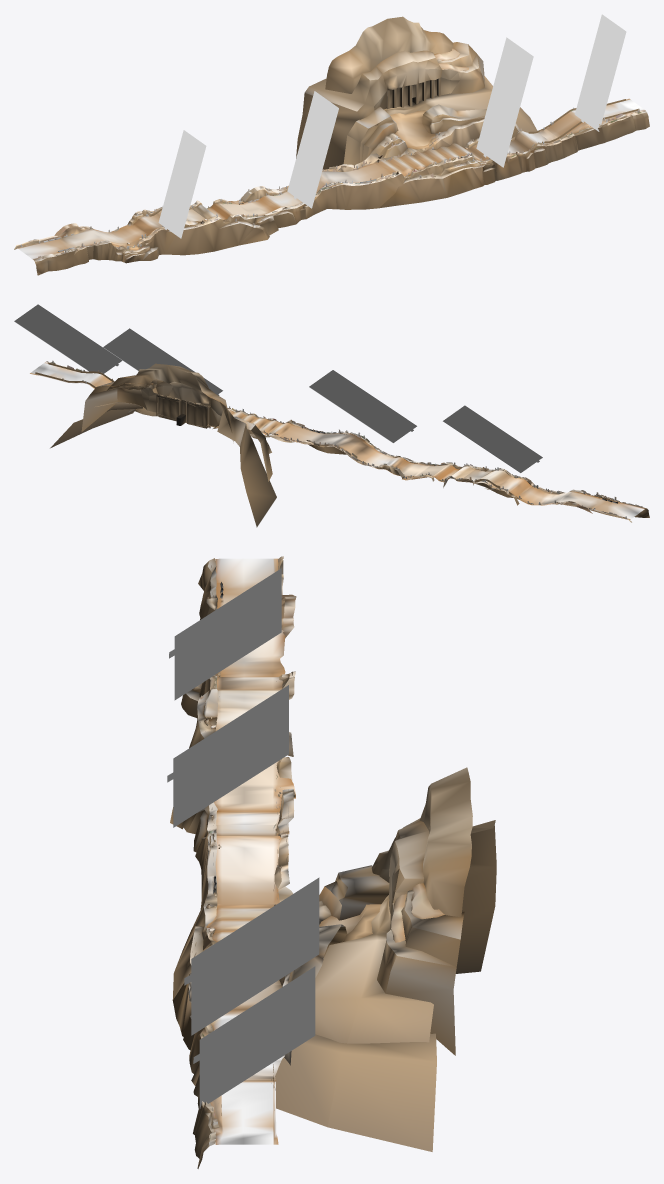
File: Desert_03.fbx
The picture shows the model from 3 angles, top to bottom: view 1: azimuth 30°, elevation 25°; view 2: azimuth 150°, elevation 25°; view 3: azimuth 270°, elevation 25°; orthographic projection. The views are drawn at different scales.
Parts seen in each view (by area): view 1: Mountain_01, Light_01, Road_01, Tree_01, Ground_02, Pattern_01; view 2: Mountain_01, Light_01, Road_01, Pattern_01, Tree_01, Leak_01; view 3: Mountain_01, Light_01, Road_01, Ground_02.
Boxes of the visible parts, left/top/right/bottom form: Mountain_01: left=14, top=16, right=649, bottom=275; Light_01: left=158, top=14, right=626, bottom=238; Road_01: left=17, top=98, right=644, bottom=259; Tree_01: left=20, top=107, right=645, bottom=259; Ground_02: left=390, top=48, right=468, bottom=149; Pattern_01: left=189, top=77, right=440, bottom=223; Mountain_01: left=46, top=362, right=649, bottom=527; Light_01: left=14, top=304, right=542, bottom=472; Road_01: left=30, top=362, right=644, bottom=519; Pattern_01: left=156, top=394, right=486, bottom=482; Tree_01: left=46, top=360, right=642, bottom=518; Leak_01: left=35, top=362, right=500, bottom=488; Mountain_01: left=170, top=556, right=496, bottom=1168; Light_01: left=167, top=568, right=319, bottom=1108; Road_01: left=206, top=558, right=295, bottom=1144; Ground_02: left=319, top=883, right=444, bottom=947.
Bounding box in the file's own units: 32817 × 7130 × 7690.
